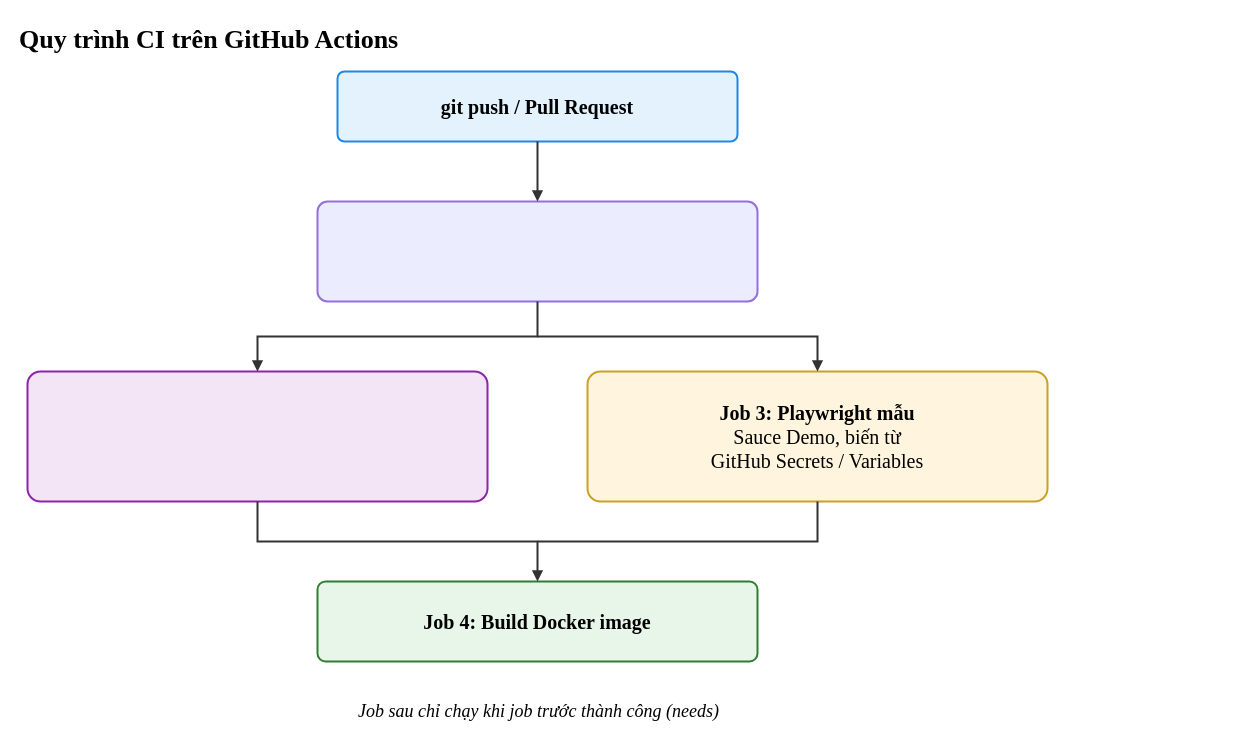
The diagram is 1234 pixels wide and 742 high, and some of its shapes have lost their labels. Each missing label, with the box of its shape:
Job 1: Unit & API test npm ci → npm test (73 test): (316, 200, 758, 302)
Job 2: E2E Playwright cài Chromium → test:e2e lưu báo cáo HTML: (26, 370, 488, 502)
